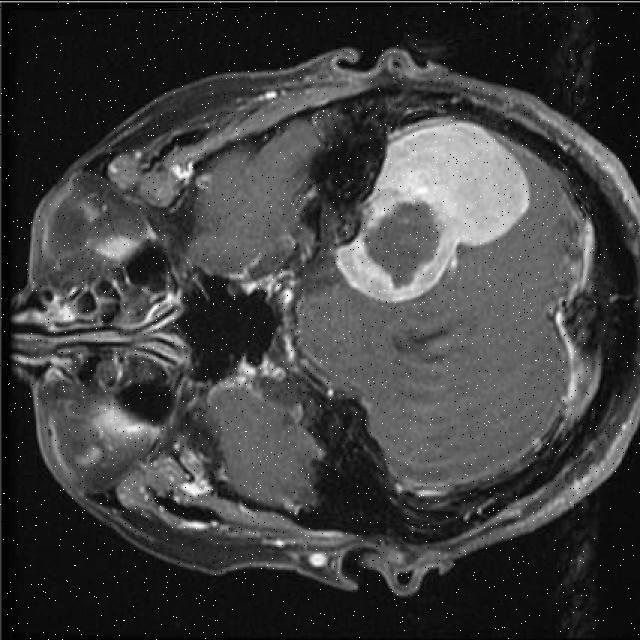Meningioma: (340, 121, 529, 300)
